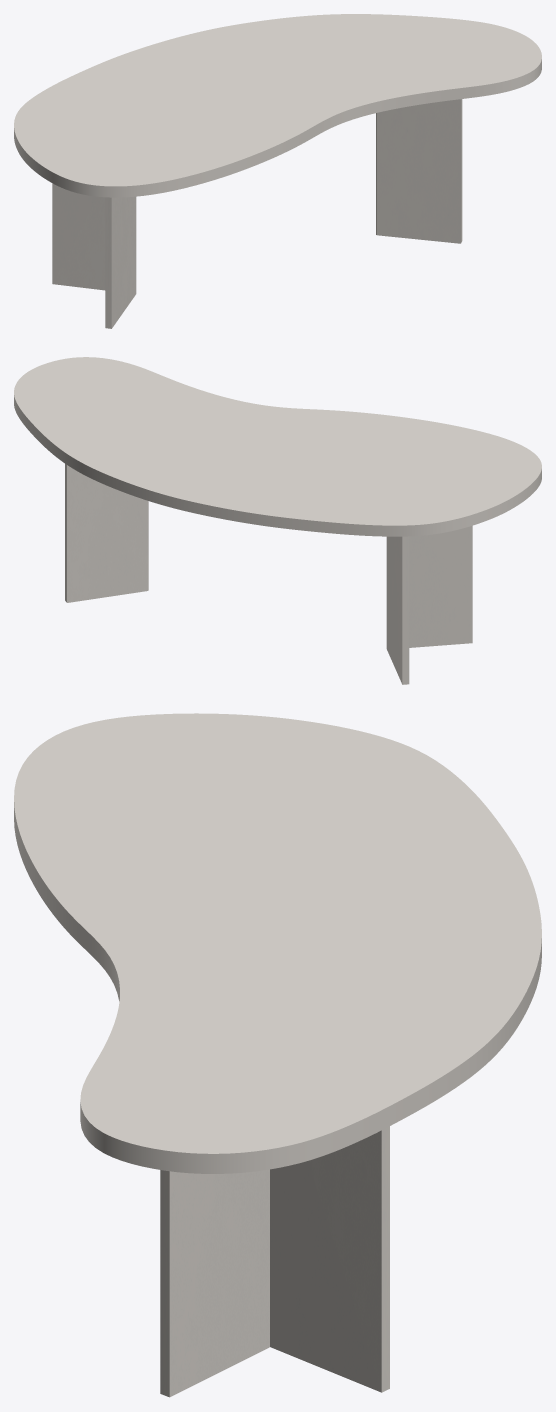
The model's file is pearlwhite_leaf1_standard_valleyv.glb.
The picture shows the model from 3 angles, top to bottom: view 1: azimuth 30°, elevation 25°; view 2: azimuth 150°, elevation 25°; view 3: azimuth 270°, elevation 25°; orthographic projection. The views are drawn at different scales.
Parts seen in each view (by area): view 1: standard_leaf1, valleyv; view 2: standard_leaf1, valleyv; view 3: standard_leaf1, valleyv.
Part boxes in pixels (x1=…): standard_leaf1: x1=14, y1=14, x2=541, y2=197; valleyv: x1=52, y1=99, x2=462, y2=328; standard_leaf1: x1=14, y1=357, x2=541, y2=536; valleyv: x1=65, y1=464, x2=472, y2=684; standard_leaf1: x1=14, y1=713, x2=541, y2=1173; valleyv: x1=160, y1=1126, x2=389, y2=1397.
Size of the model in its own units: 7.5 by 2.5 by 3.8.
Materials: 1 (1 with a texture image).
